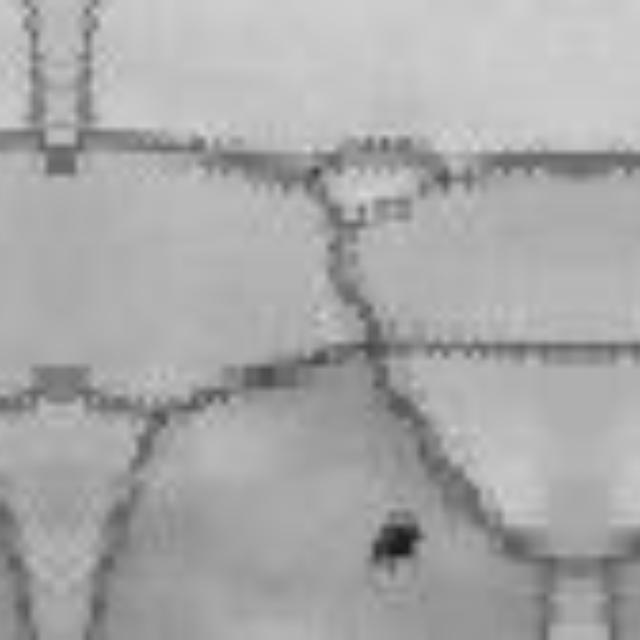good_void: (361, 498, 434, 583)
